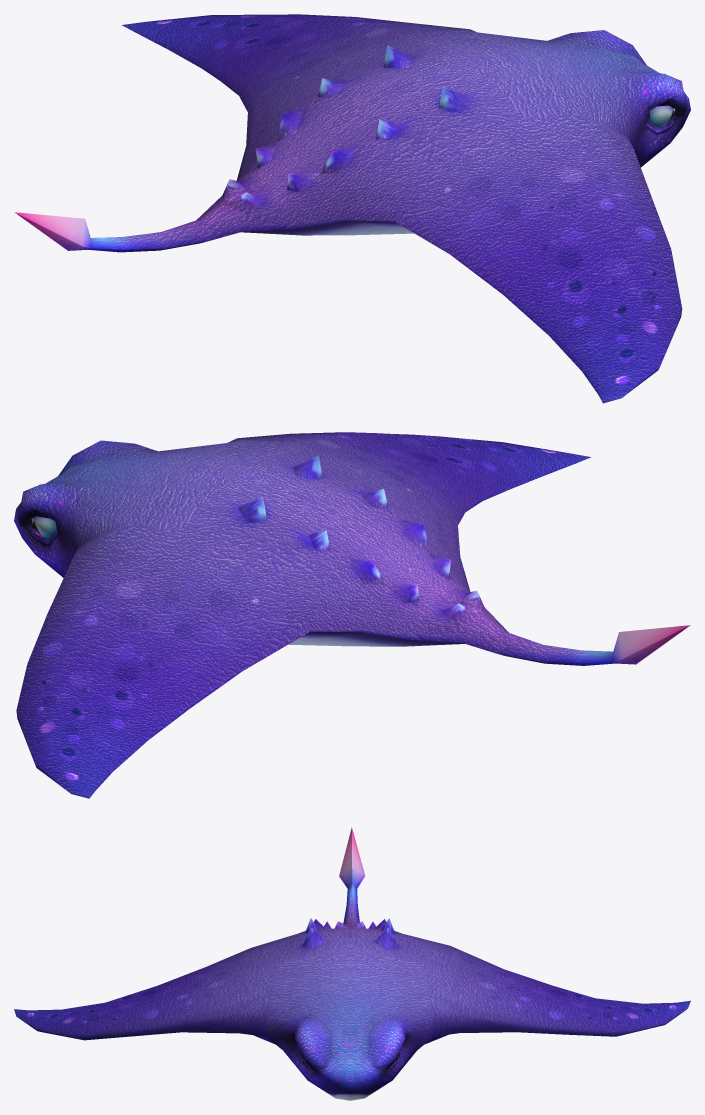
The model's file is BFY_L.fbx.
3 renders of one model, top to bottom at view 1: azimuth 30°, elevation 25°; view 2: azimuth 150°, elevation 25°; view 3: azimuth 270°, elevation 25°, orthographic. The views are drawn at different scales.
Visible parts, largest first — view 1: bianfuyu; view 2: bianfuyu; view 3: bianfuyu.
Part boxes in pixels (x1,y1,x2,y2): bianfuyu: [14, 14, 690, 403]; bianfuyu: [14, 432, 690, 798]; bianfuyu: [14, 827, 690, 1100].
Size of the model in its own units: 21.01 by 5.04 by 26.67.
